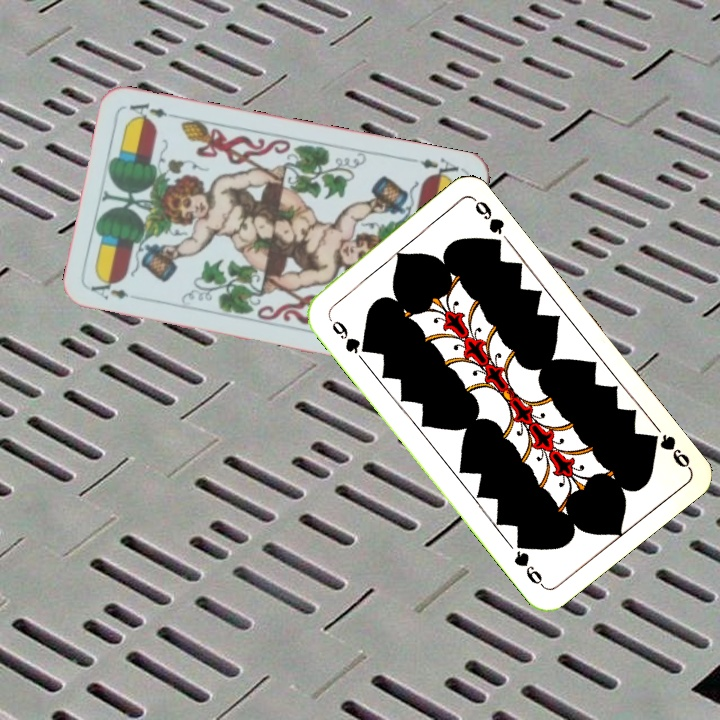EA: (406, 154, 465, 183), (87, 277, 131, 303)
G9: (642, 429, 693, 472), (324, 312, 372, 357)
